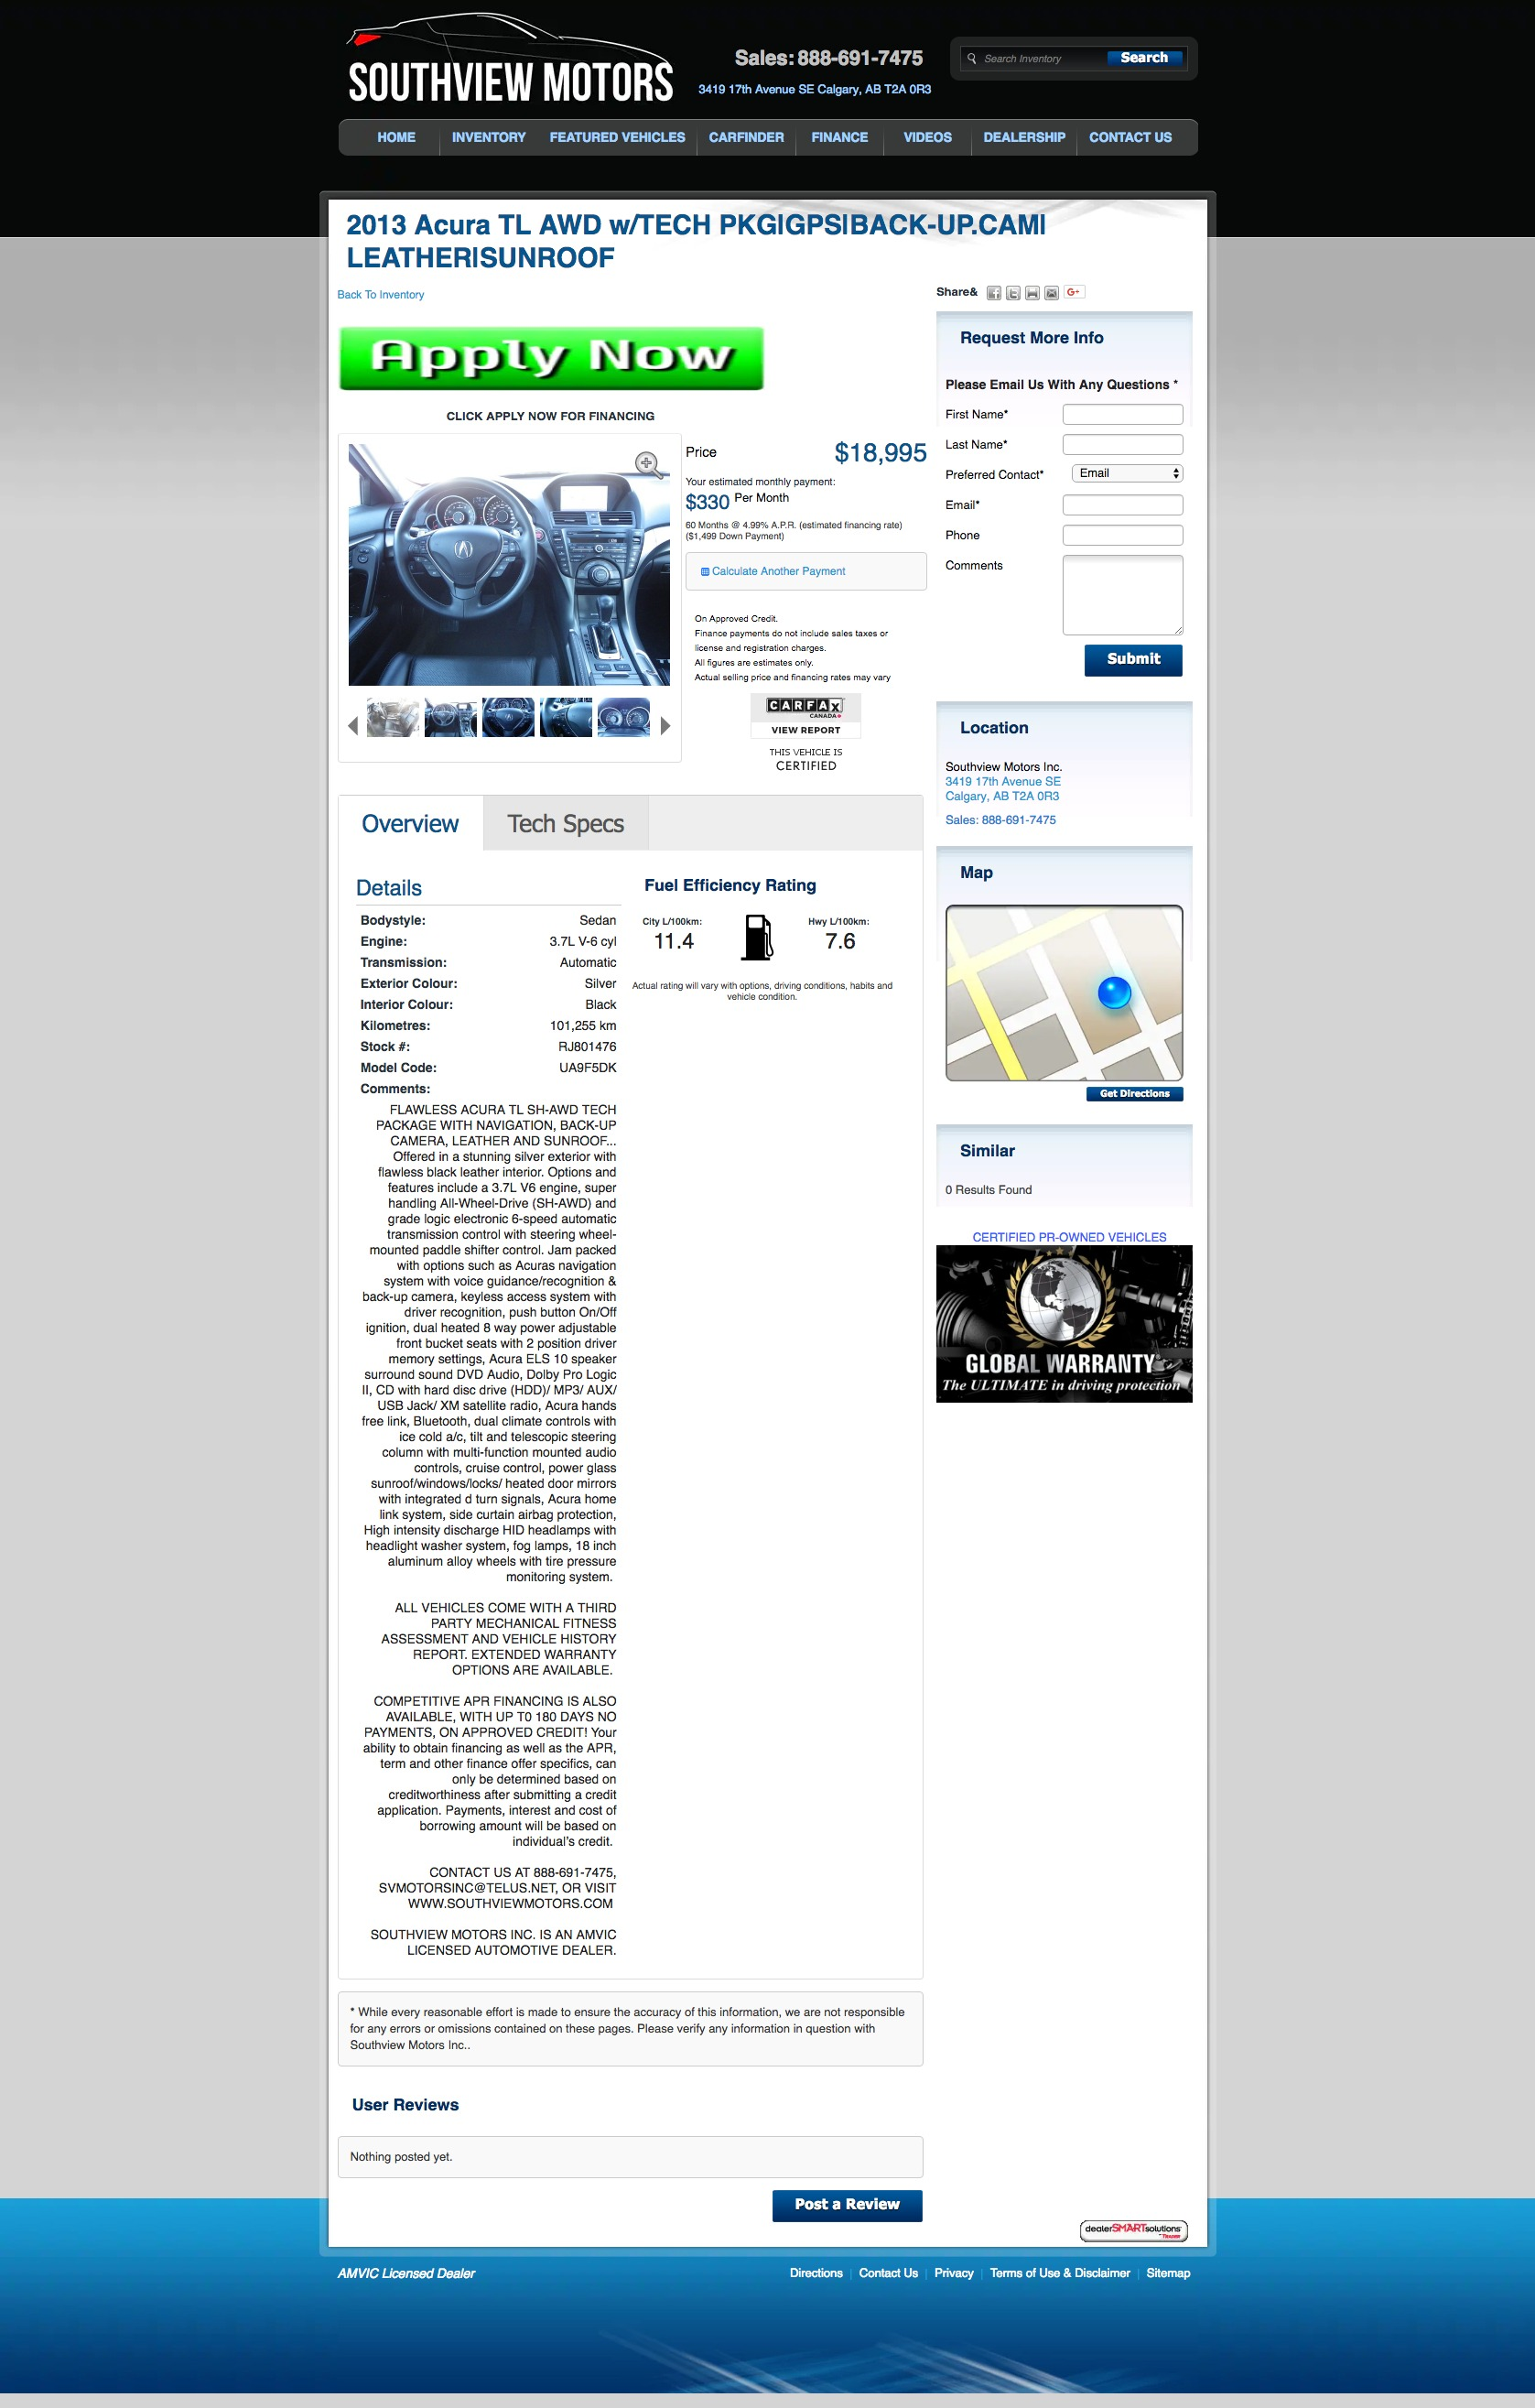car: (661, 716, 670, 737)
